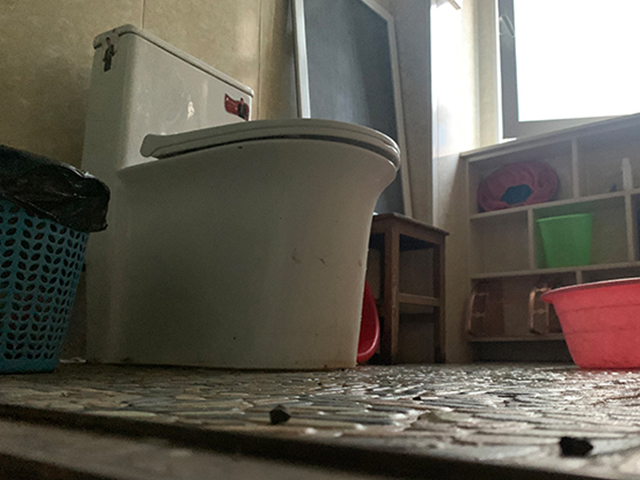closestool: (79, 22, 401, 372)
stool: (370, 212, 454, 363)
trashcan: (1, 141, 112, 376)
